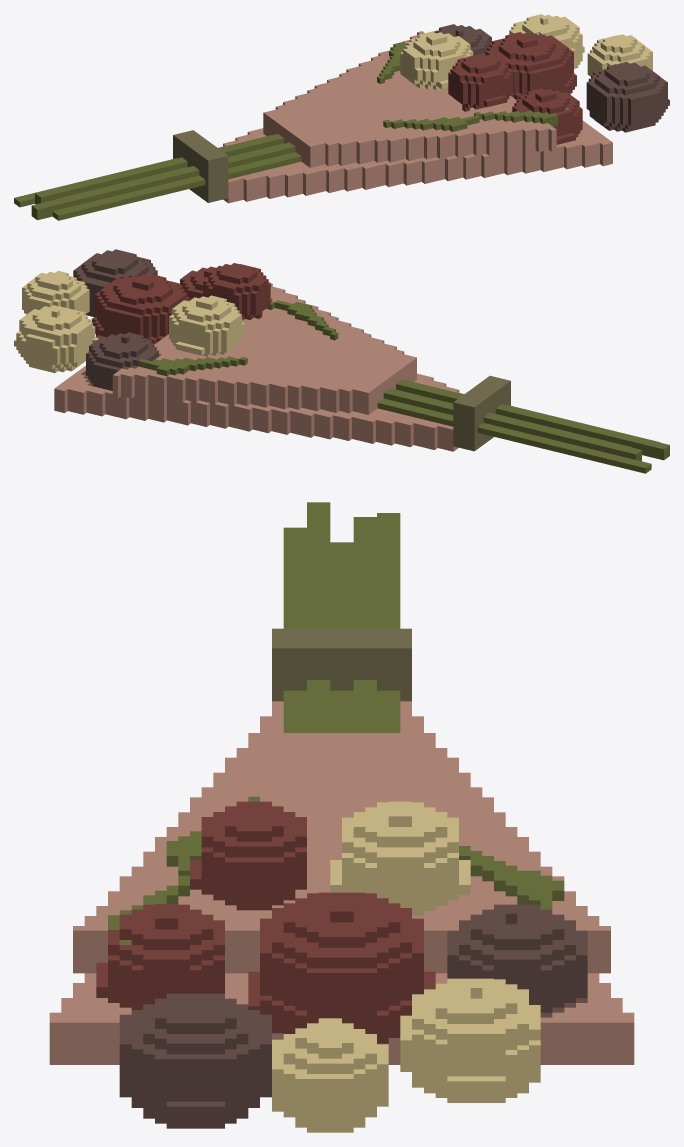
The model's file is bouquet.glb.
3 renders of one model, top to bottom at view 1: azimuth 30°, elevation 25°; view 2: azimuth 150°, elevation 25°; view 3: azimuth 270°, elevation 25°, orthographic. The views are drawn at different scales.
Visible parts, largest first — view 1: bouquet:compound; view 2: bouquet:compound; view 3: bouquet:compound.
Part boxes in pixels (left/top/right/bottom): bouquet:compound: left=14, top=14, right=669, bottom=220; bouquet:compound: left=14, top=249, right=669, bottom=473; bouquet:compound: left=49, top=502, right=634, bottom=1132.
Bounding box in the file's own units: 0.484 × 0.064 × 0.2.
